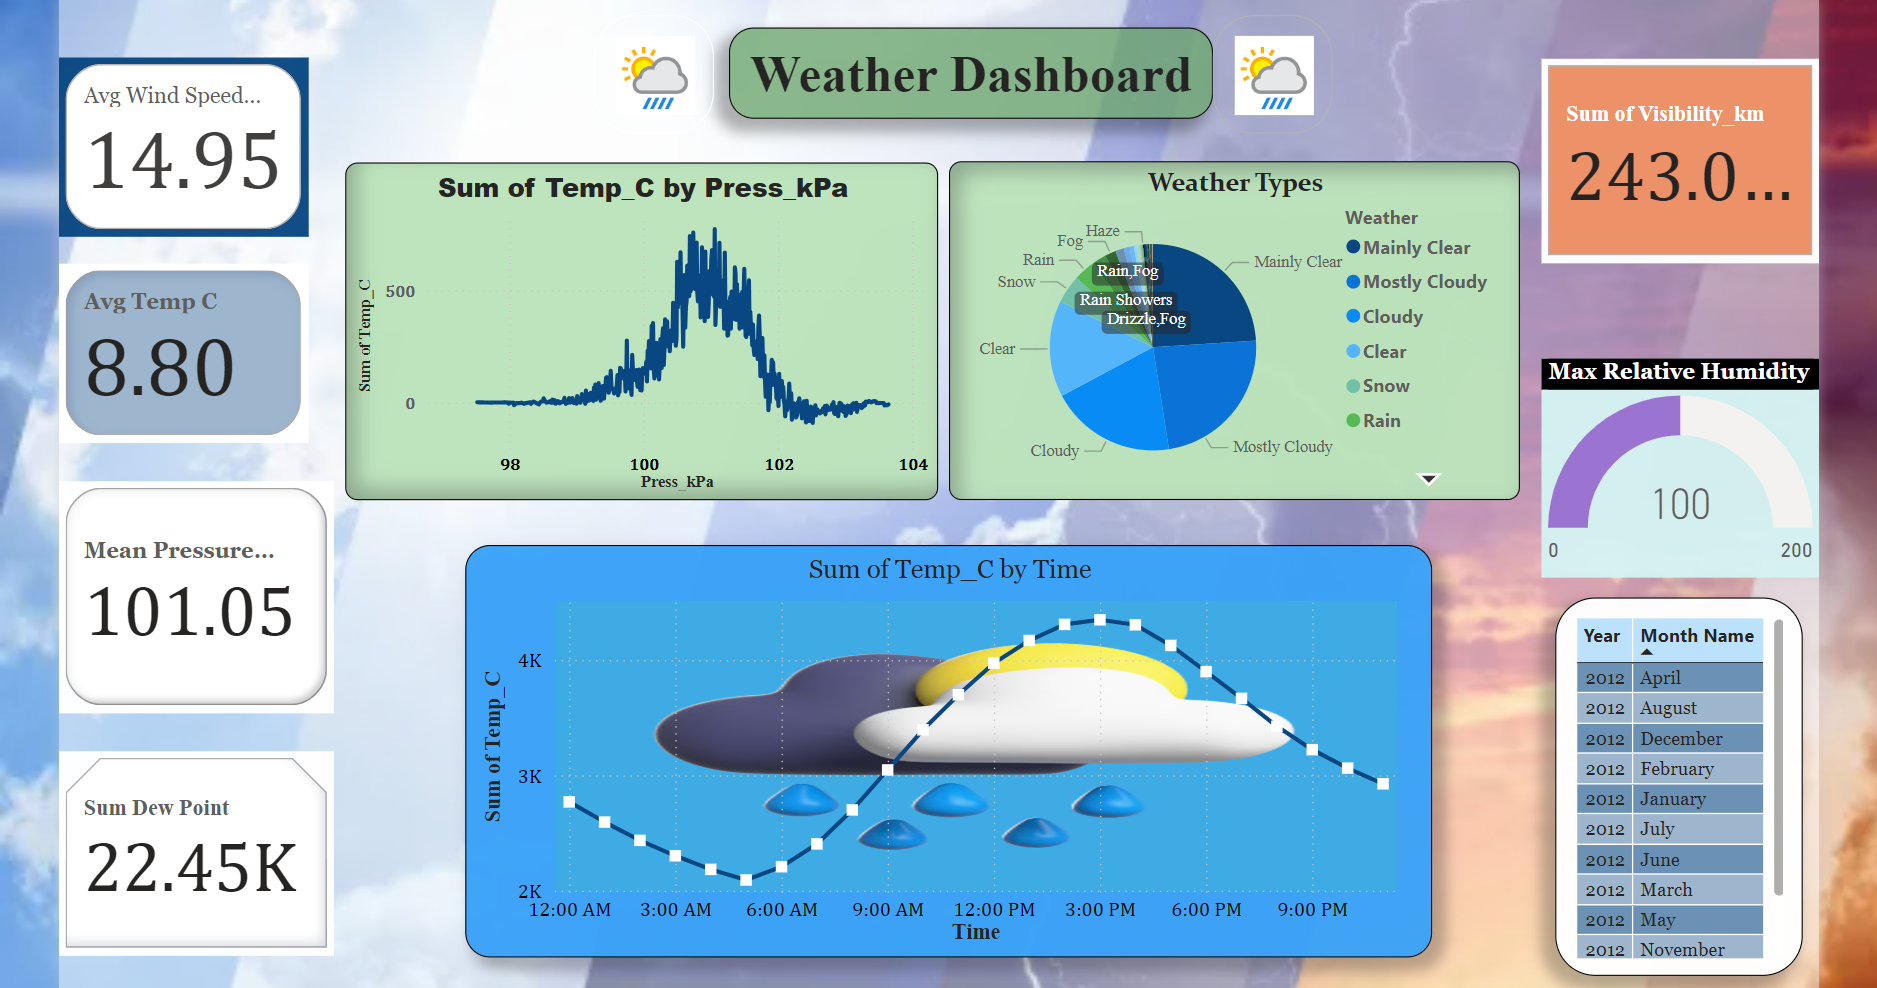

The page's visual inventory and layout, read from the dashboard file:
{"tool":"powerbi","page":{"name":"Page 1","canvas":[1280,720],"ordinal":0},"visuals":[{"type":"textbox","box":[487.2,19.8,352.3,66.3],"z":0},{"type":"cardVisual","fields":{"Data":["Avg(Weather_Dataset.Temp_C)"]},"box":[0,191.9,181.4,130.2],"z":1000},{"type":"cardVisual","fields":{"Data":["Sum(Weather_Dataset.Dew Point Temp_C)"]},"box":[0,546.5,200,148.8],"z":2000},{"type":"tableEx","fields":{"Values":["Weather_Dataset.Year","Weather_Dataset.Month Name"]},"box":[1088.4,434.9,180.2,275.6],"z":3000},{"type":"gauge","title":"Max Relative Humidity","fields":{"Y":["Max(Weather_Dataset.Rel Hum_%)"]},"box":[1077.9,260.5,202.3,159.3],"z":4000},{"type":"cardVisual","fields":{"Data":["Avg(Weather_Dataset.Wind Speed_km/h)"]},"box":[0,41.9,181.4,130.2],"z":5000},{"type":"cardVisual","fields":{"Data":["Sum(Weather_Dataset.Visibility_km)"]},"box":[1077.9,43,202.3,148.8],"z":6000},{"type":"cardVisual","fields":{"Data":["Weather_Dataset.Mean Pressure (kPa)"]},"box":[0,350,200,168.6],"z":7000},{"type":"lineChart","fields":{"Y":["Sum(Weather_Dataset.Temp_C)"],"Category":["Weather_Dataset.Time"]},"box":[295.3,396.5,703.5,300],"z":8000},{"type":"pieChart","title":"Weather Types","fields":{"Category":["Weather_Dataset.Weather"],"Y":["CountNonNull(Weather_Dataset.Weather)"]},"box":[647.7,117.4,415.1,246.5],"z":9000},{"type":"areaChart","fields":{"Category":["Weather_Dataset.Press_kPa"],"Y":["Sum(Weather_Dataset.Temp_C)"]},"box":[208.1,118.6,431.4,245.3],"z":10000},{"type":"image","box":[389.5,10.5,87.2,86],"z":11000},{"type":"image","box":[839.5,10.5,87.2,86],"z":12000}]}

Visuals, with their boxes in screenshot pixels (x1, y1, x2, y2):
textbox: 742 27 1218 116
cardVisual - Avg(Weather_Dataset.Temp_C): 83 260 328 436
cardVisual - Sum(Weather_Dataset.Dew Point Temp_C): 83 739 354 940
tableEx - Weather_Dataset.Year x Weather_Dataset.Month Name: 1555 588 1799 961
"Max Relative Humidity" gauge: 1541 352 1814 568
cardVisual - Avg(Weather_Dataset.Wind Speed_km/h): 83 57 328 233
cardVisual - Sum(Weather_Dataset.Visibility_km): 1541 58 1814 259
cardVisual - Weather_Dataset.Mean Pressure (kPa): 83 473 354 701
lineChart - Sum(Weather_Dataset.Temp_C) x Weather_Dataset.Time: 482 536 1434 942
"Weather Types" pieChart: 959 159 1520 492
areaChart - Weather_Dataset.Press_kPa x Sum(Weather_Dataset.Temp_C): 365 160 948 492
image: 610 14 728 131
image: 1218 14 1336 131
